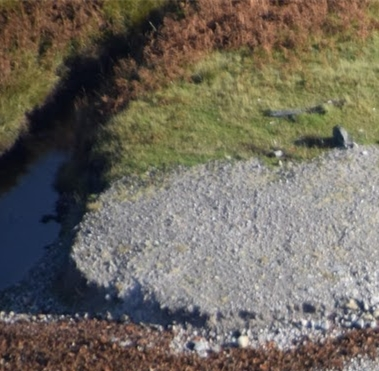straight_bar: (258, 98, 308, 127)
white_in_green: (217, 319, 271, 364)
